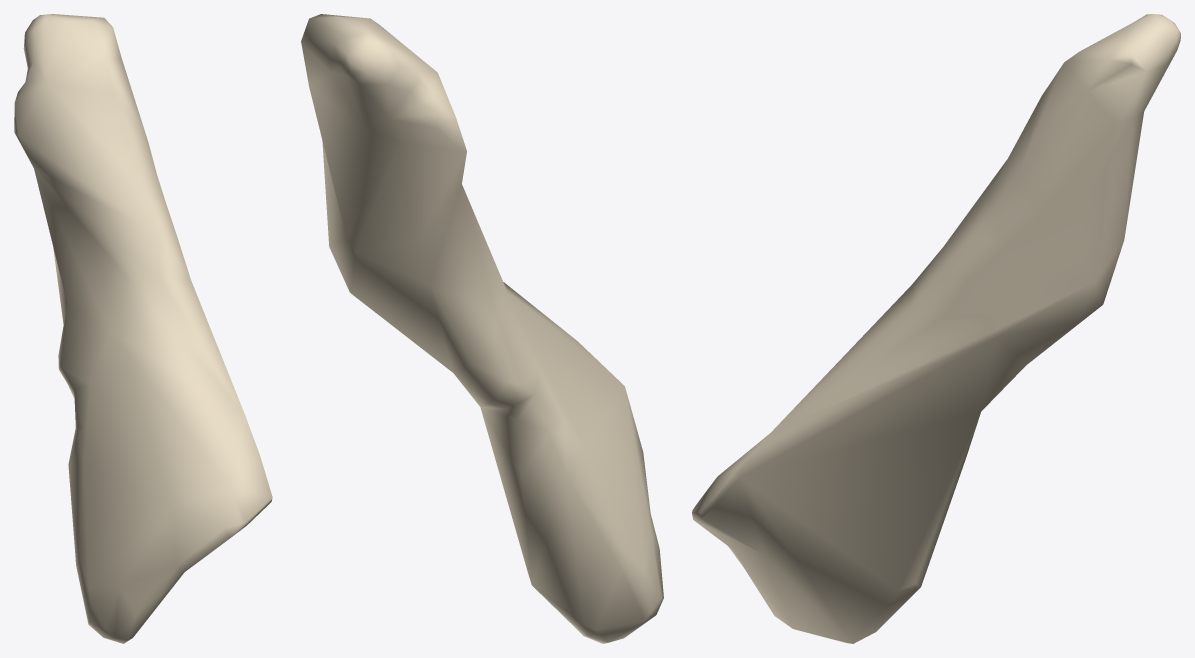
File: nasal-bone-r.glb
The picture shows the model from 3 angles, left to right: view 1: azimuth 30°, elevation 25°; view 2: azimuth 150°, elevation 25°; view 3: azimuth 270°, elevation 25°; orthographic projection. The views are drawn at different scales.
Visible parts, largest first — view 1: Nasal bone.r; view 2: Nasal bone.r; view 3: Nasal bone.r.
Part boxes in pixels (left/top/right/bottom): Nasal bone.r: left=14, top=14, right=272, bottom=643; Nasal bone.r: left=301, top=14, right=663, bottom=643; Nasal bone.r: left=692, top=14, right=1180, bottom=643.
Size of the model in its own units: 0.0084 by 0.0314 by 0.0209.
